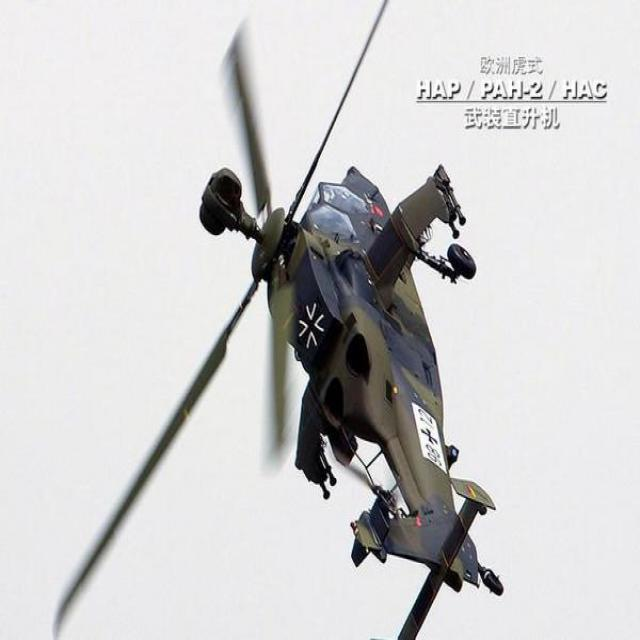MIL_HELO: (32, 5, 524, 640)
